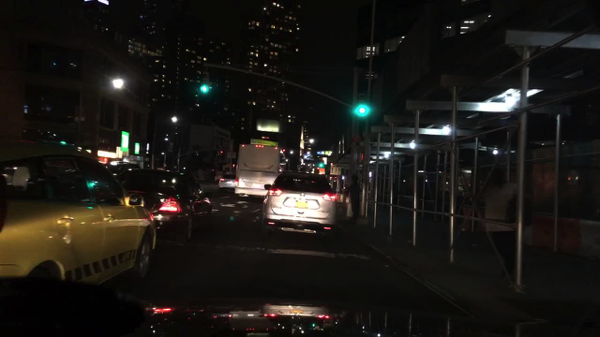bus: (235, 144, 281, 198)
car: (1, 139, 159, 295), (118, 168, 213, 241), (262, 171, 336, 239), (106, 160, 141, 178), (218, 174, 236, 191)
person: (479, 164, 534, 279), (343, 174, 363, 226)
traffic light: (201, 72, 210, 94), (358, 105, 367, 114), (360, 154, 365, 162), (319, 162, 324, 167), (219, 151, 223, 155)
traffic sign: (330, 165, 342, 176), (226, 151, 237, 160), (352, 135, 361, 143), (318, 168, 326, 176), (75, 117, 84, 123)
